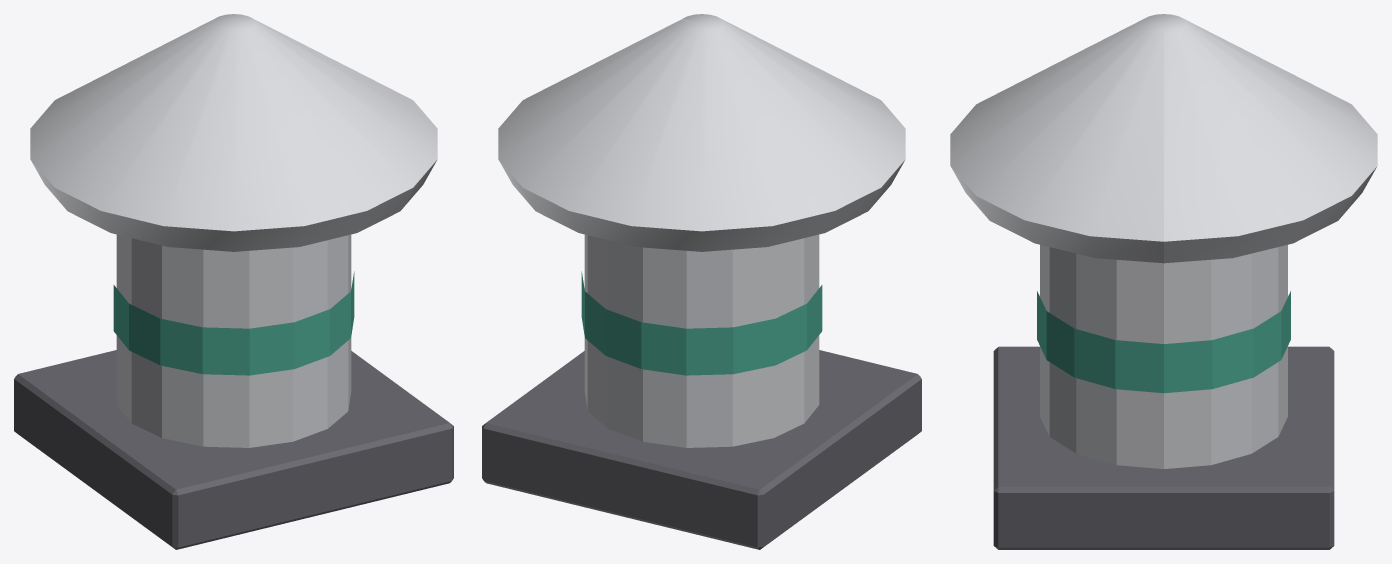
File: petrol-station-and-forecourt-shop-roof-vent-cowl-1901c168__33963.glb
The picture shows the model from 3 angles, left to right: view 1: azimuth 30°, elevation 25°; view 2: azimuth 150°, elevation 25°; view 3: azimuth 270°, elevation 25°; orthographic projection. The views are drawn at different scales.
Parts seen in each view (by area): view 1: roof-vent-cowl; view 2: roof-vent-cowl; view 3: roof-vent-cowl.
Part boxes in pixels (left/top/right/bottom): roof-vent-cowl: left=14, top=14, right=453, bottom=549; roof-vent-cowl: left=482, top=14, right=921, bottom=549; roof-vent-cowl: left=950, top=14, right=1377, bottom=549.
Size of the model in its own units: 0.56 by 0.65 by 0.5515.
